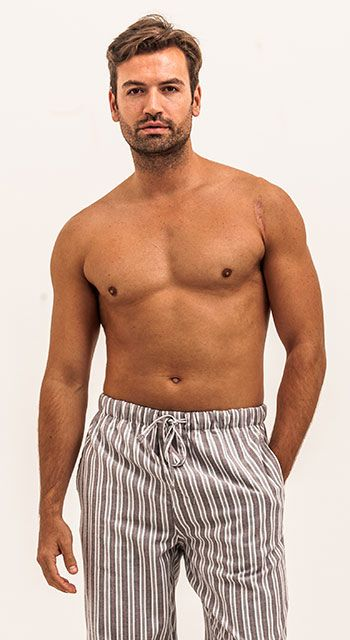NOTSAFE: (93, 14, 270, 410)
